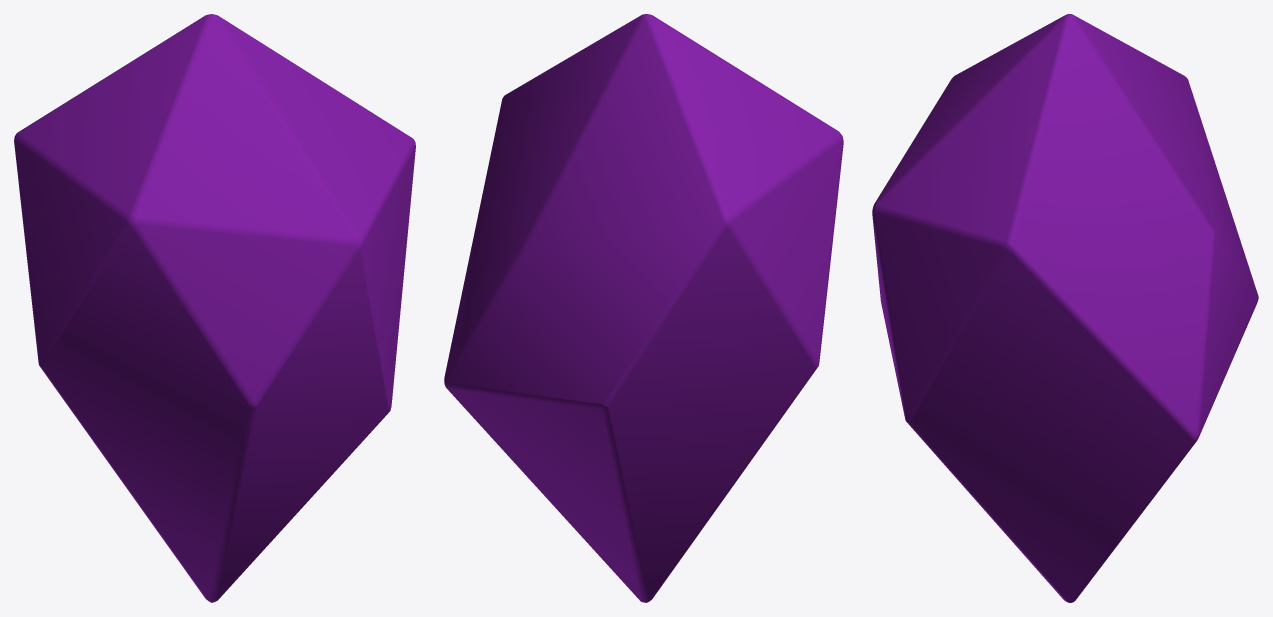
File: Gem.fbx
3 renders of one model, left to right at view 1: azimuth 30°, elevation 25°; view 2: azimuth 150°, elevation 25°; view 3: azimuth 270°, elevation 25°, orthographic.
Parts seen in each view (by area): view 1: Icosphere; view 2: Icosphere; view 3: Icosphere.
Boxes of the visible parts, <box> form: Icosphere: <box>14,14,415,602</box>; Icosphere: <box>444,14,843,602</box>; Icosphere: <box>872,14,1258,602</box>.
Bounding box in the file's own units: 123 × 201 × 120.
